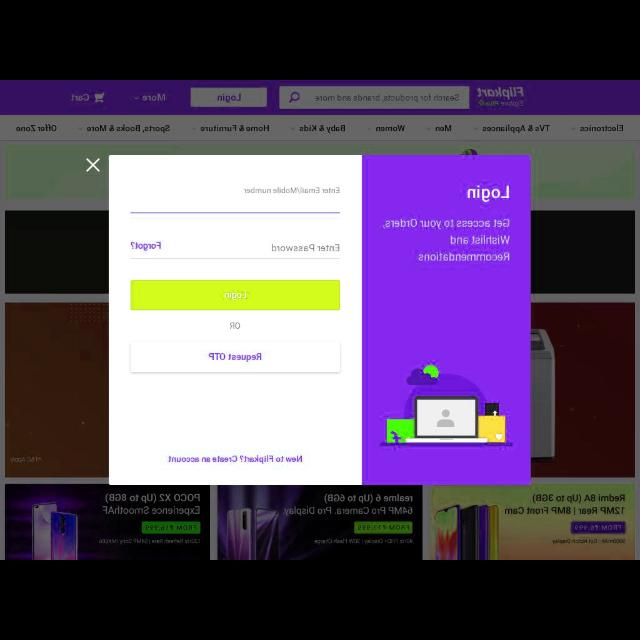button: (82, 155, 104, 177)
icon: (84, 158, 102, 175), (287, 92, 301, 104), (94, 91, 105, 102), (78, 126, 84, 130), (426, 127, 432, 131), (366, 126, 372, 130), (192, 126, 196, 130), (134, 96, 138, 100), (572, 126, 576, 130), (474, 126, 478, 130), (290, 128, 296, 130)
iframe: (428, 483, 636, 559), (218, 484, 422, 558), (6, 487, 210, 559)
image: (373, 360, 515, 450), (477, 86, 525, 108)
input: (132, 187, 342, 210), (278, 86, 470, 110), (128, 239, 342, 257)
multitab: (13, 122, 627, 136)
panel: (109, 155, 531, 485)
spinner: (77, 124, 171, 134), (192, 123, 270, 133), (473, 124, 551, 134), (290, 122, 348, 134), (570, 122, 626, 134), (366, 123, 406, 133), (132, 91, 166, 102), (426, 122, 454, 134)
text: (380, 218, 512, 264), (168, 454, 304, 466), (314, 94, 460, 102), (242, 187, 342, 196), (466, 183, 510, 203), (270, 242, 340, 254), (87, 124, 171, 134), (198, 123, 270, 133), (208, 351, 262, 364), (484, 124, 552, 134), (298, 123, 348, 133), (580, 123, 626, 133), (15, 123, 60, 133), (129, 240, 163, 253), (374, 123, 406, 133), (215, 91, 242, 102), (140, 91, 166, 102), (224, 291, 248, 301), (69, 93, 91, 103), (434, 124, 454, 134), (229, 322, 241, 330)
textbutton: (130, 279, 340, 311), (129, 342, 341, 372), (190, 88, 268, 106)
toolbar: (0, 80, 638, 114)
